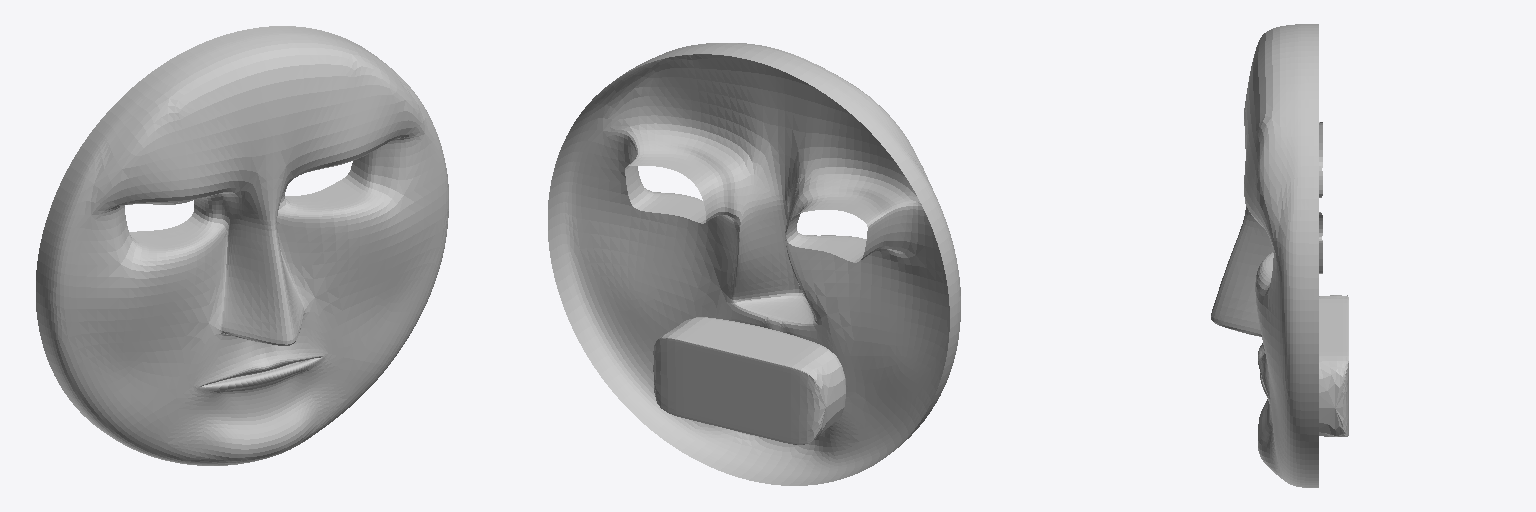
File: Parker V2.obj
3 renders of one model, left to right at view 1: azimuth 30°, elevation 25°; view 2: azimuth 150°, elevation 25°; view 3: azimuth 270°, elevation 25°, orthographic.
Parts seen in each view (by area): view 1: Circle.211; view 2: Circle.211; view 3: Circle.211.
Part boxes in pixels (x1,y1,x2,y2): Circle.211: (36,26,448,465); Circle.211: (548,43,960,485); Circle.211: (1211,24,1348,487).
Bounding box in the file's own units: 50.64 × 50.56 × 15.12.